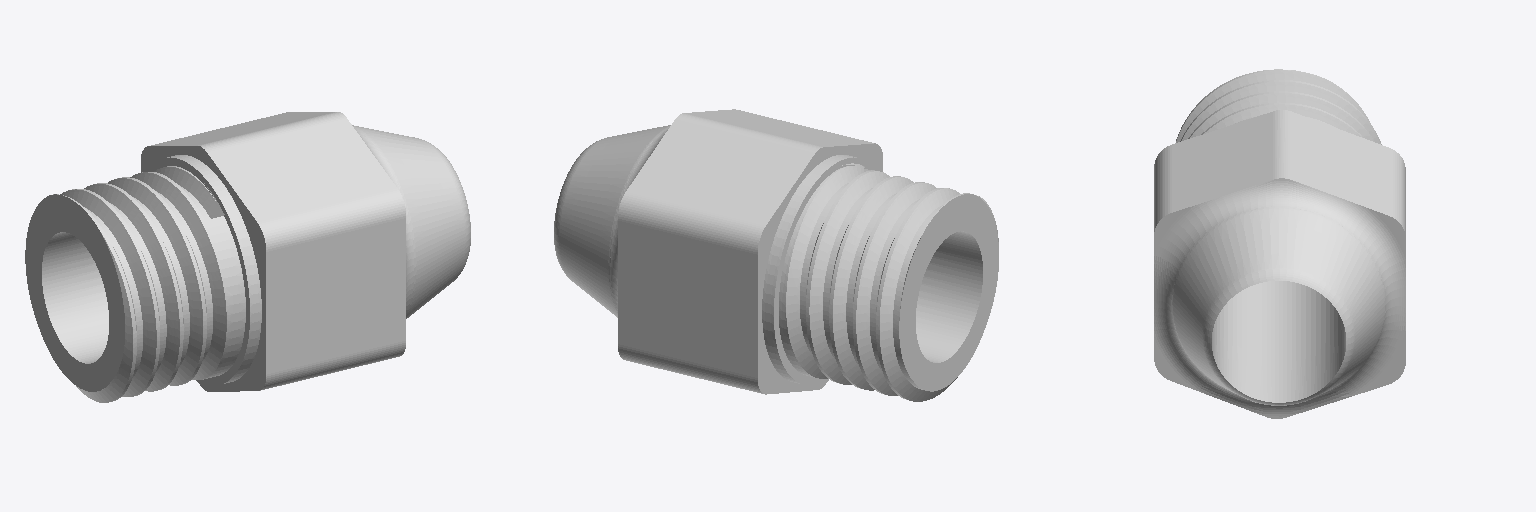
File: screw_TOP1.obj
3 renders of one model, left to right at view 1: azimuth 30°, elevation 25°; view 2: azimuth 150°, elevation 25°; view 3: azimuth 270°, elevation 25°, orthographic.
Parts seen in each view (by area): view 1: screw_TOP1; view 2: screw_TOP1; view 3: screw_TOP1.
Part boxes in pixels (bbox=[...]): screw_TOP1: bbox=[25, 112, 470, 402]; screw_TOP1: bbox=[554, 109, 998, 401]; screw_TOP1: bbox=[1154, 69, 1405, 418].
Size of the model in its own units: 46.5 by 29.57 by 28.